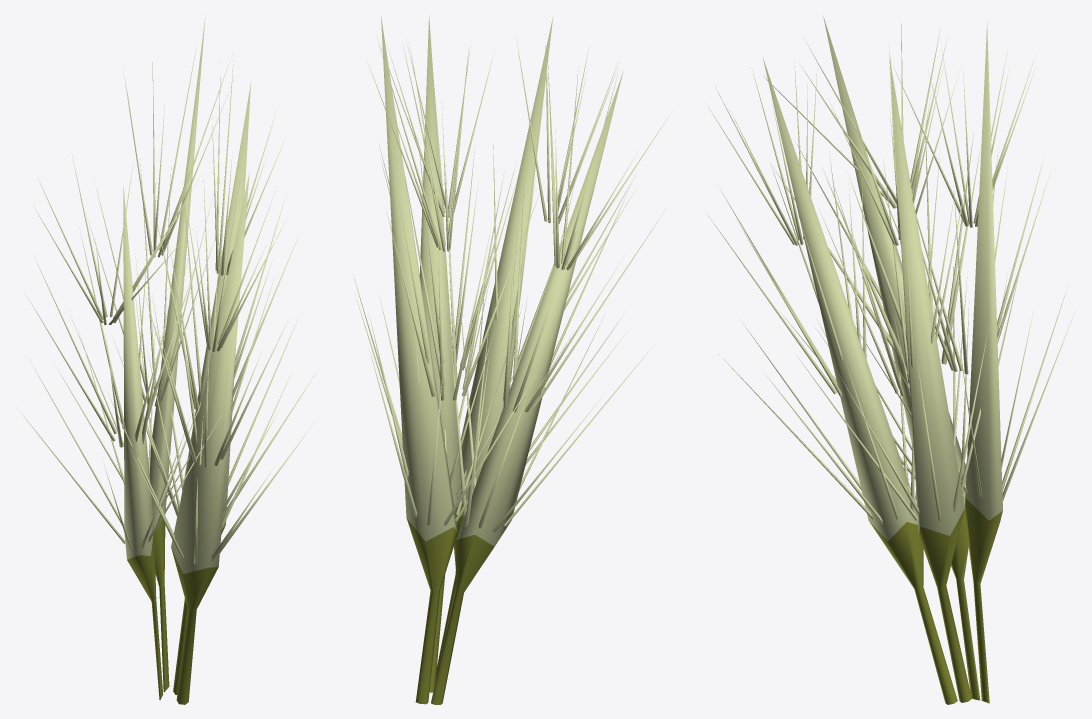
File: Wheat.fbx
The picture shows the model from 3 angles, left to right: view 1: azimuth 30°, elevation 25°; view 2: azimuth 150°, elevation 25°; view 3: azimuth 270°, elevation 25°; orthographic projection. The views are drawn at different scales.
Visible parts, largest first — view 1: WheatField2; view 2: WheatField2; view 3: WheatField2.
Part boxes in pixels (x1,y1,x2,y2): WheatField2: (17, 15, 318, 704); WheatField2: (354, 15, 669, 704); WheatField2: (708, 15, 1074, 704).
Bounding box in the file's own units: 33.76 × 77.59 × 37.38.
